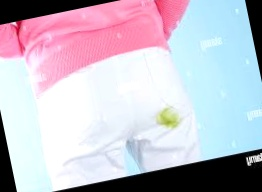earth: (153, 106, 180, 131)
